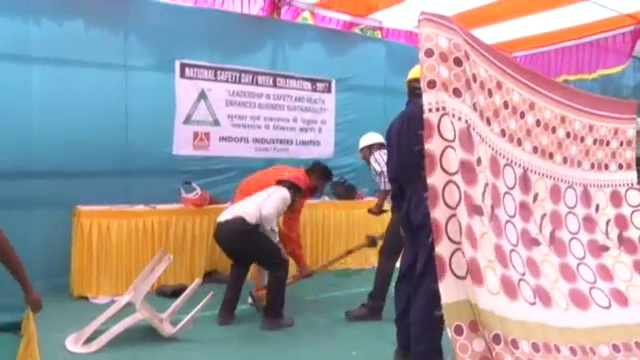helmet: (355, 128, 386, 152), (276, 168, 306, 192), (402, 60, 427, 81)
helmet_off: (304, 162, 332, 194)
helmet_on: (272, 167, 306, 207), (355, 129, 385, 170), (402, 60, 426, 106)
person: (387, 58, 445, 358), (215, 173, 306, 328), (344, 127, 409, 325), (234, 161, 332, 283)
